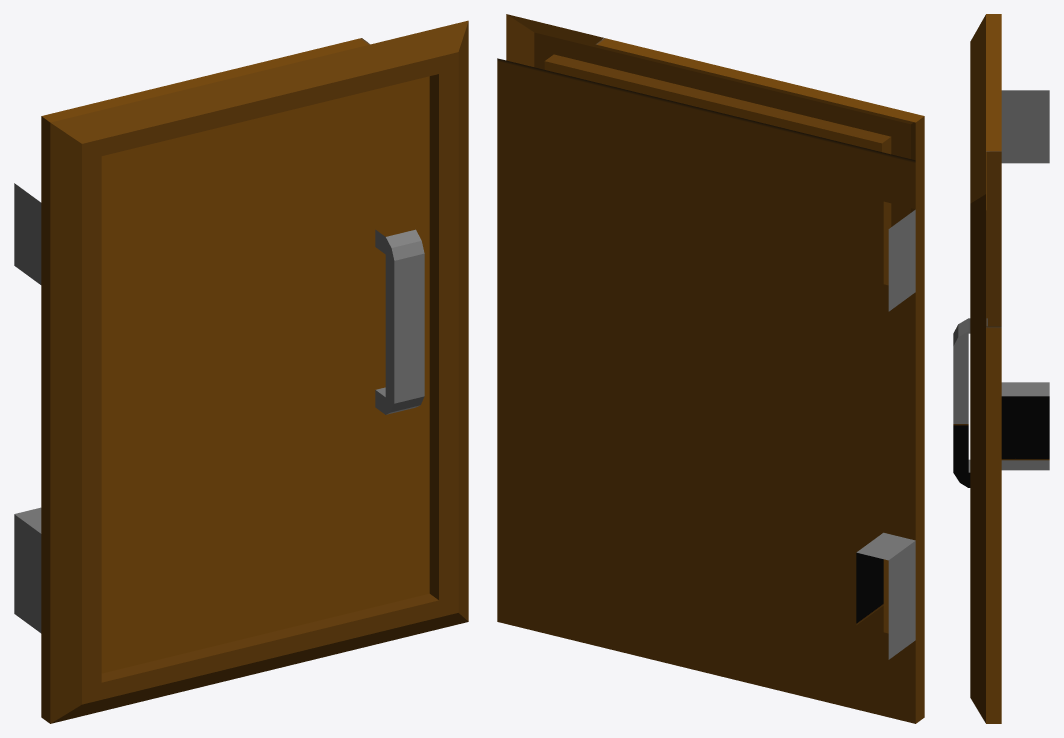
The model's file is High_Cupboard_Safe_Door_Left.fbx.
3 views of the same model, side by side, from view 1: azimuth 30°, elevation 25°; view 2: azimuth 150°, elevation 25°; view 3: azimuth 270°, elevation 25° (orthographic). The views are drawn at different scales.
Visible parts, largest first — view 1: Cube.001; view 2: Cube.001; view 3: Cube.001.
Part boxes in pixels (box(x1,y1,x2,y2)): Cube.001: box(14, 20, 468, 723); Cube.001: box(497, 14, 924, 723); Cube.001: box(953, 14, 1049, 723).
Size of the model in its own units: 50.13 by 68.85 by 11.37.
